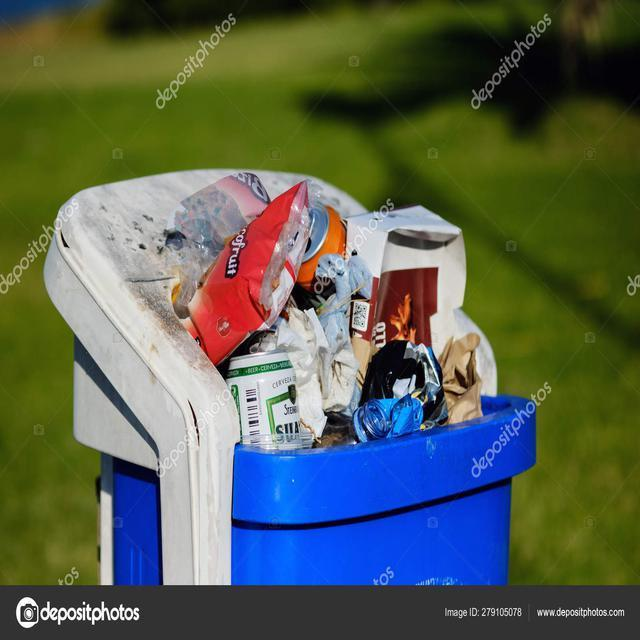garbage: (131, 184, 483, 426)
